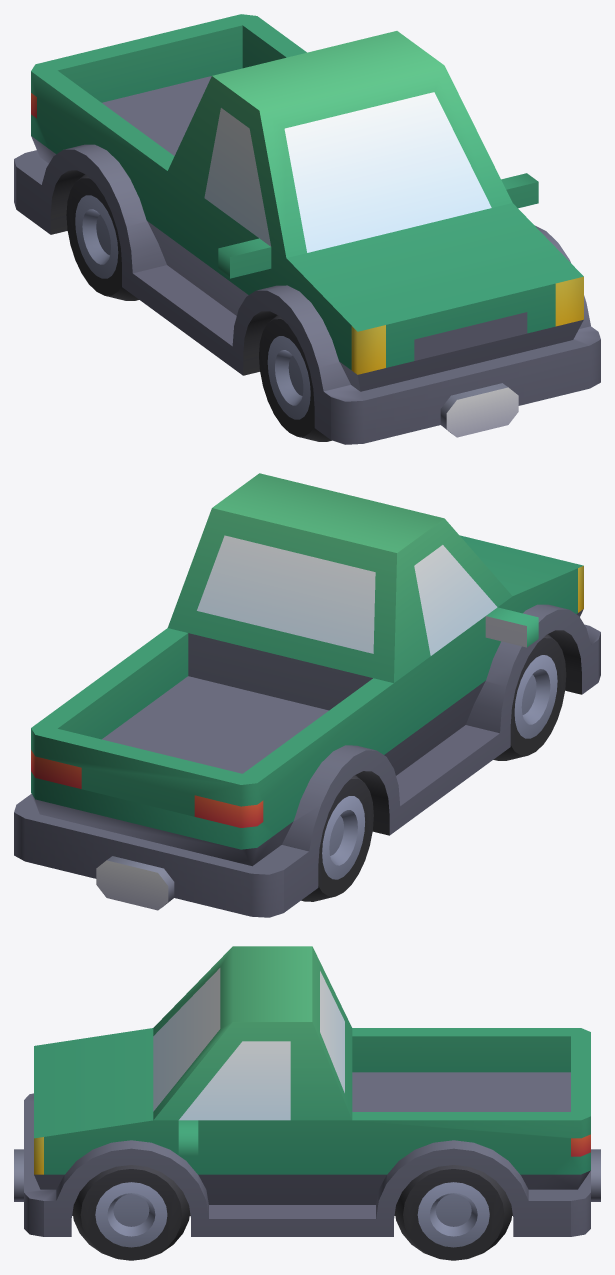
File: truck.glb
3 views of the same model, one above another, from view 1: azimuth 30°, elevation 25°; view 2: azimuth 150°, elevation 25°; view 3: azimuth 270°, elevation 25° (orthographic). The views are drawn at different scales.
Parts seen in each view (by area): view 1: body, wheel-front-right, wheel-back-right; view 2: body, wheel-front-right, wheel-back-right; view 3: body, wheel-back-left, wheel-front-left.
Part boxes in pixels (left/top/right/bottom): body: left=14, top=14, right=600, bottom=444; wheel-front-right: left=259, top=315, right=331, bottom=441; wheel-back-right: left=66, top=174, right=138, bottom=300; body: left=14, top=473, right=600, bottom=917; wheel-front-right: left=493, top=634, right=566, bottom=760; wheel-back-right: left=301, top=775, right=373, bottom=901; body: left=14, top=946, right=600, bottom=1236; wheel-back-left: left=395, top=1165, right=512, bottom=1260; wheel-front-left: left=72, top=1165, right=189, bottom=1260.
Bounding box in the file's own units: 1.5 × 1.3 × 2.95.
Materials: 1 (1 with a texture image).
